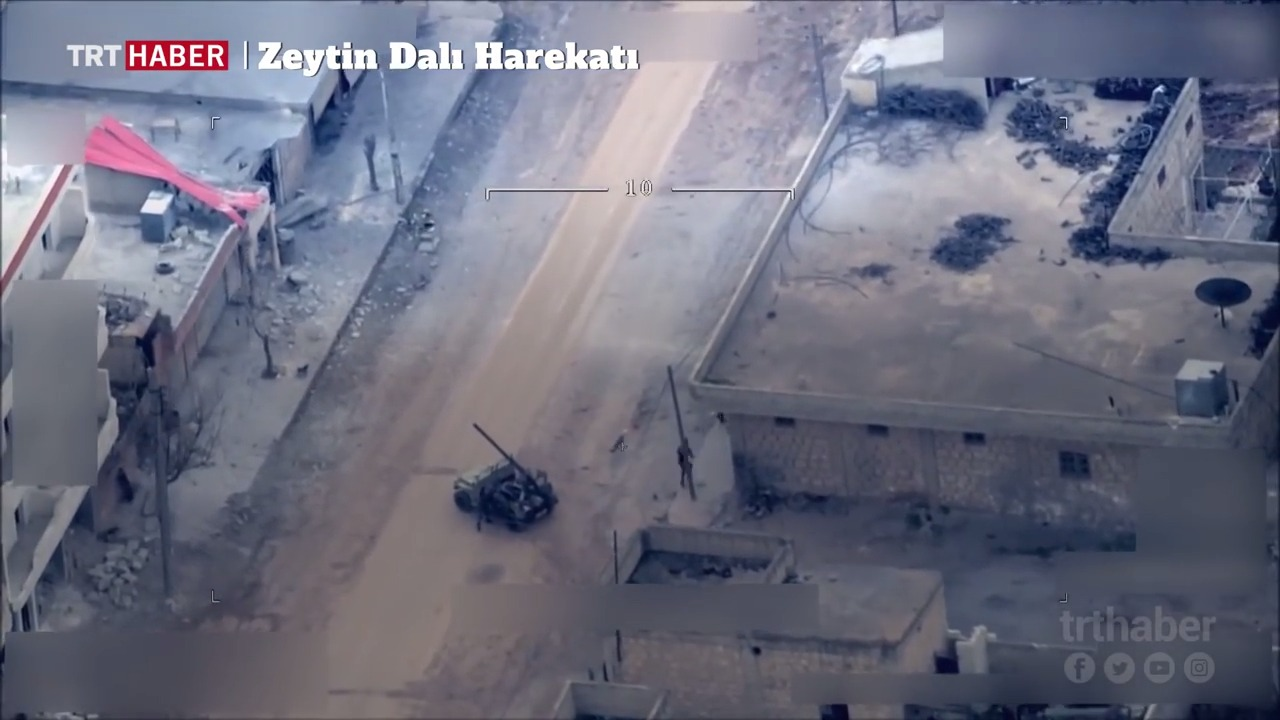arac: (448, 418, 555, 531)
insan: (673, 434, 700, 495), (467, 484, 490, 529)
